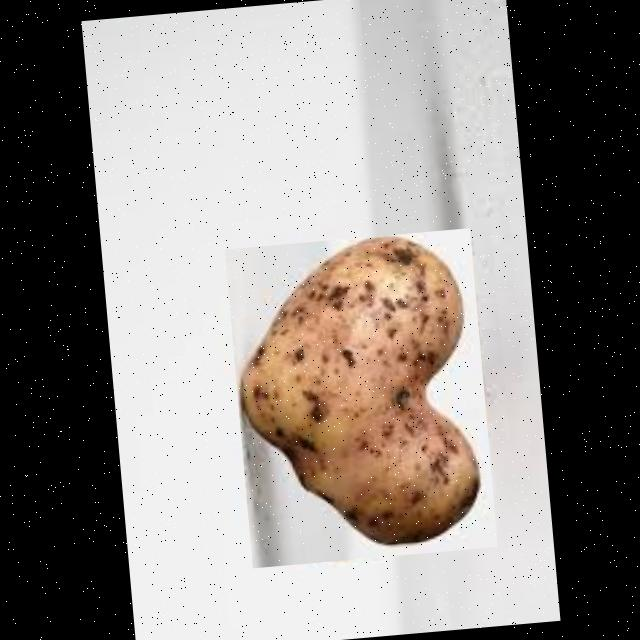Damaged potato: (225, 226, 498, 566)
